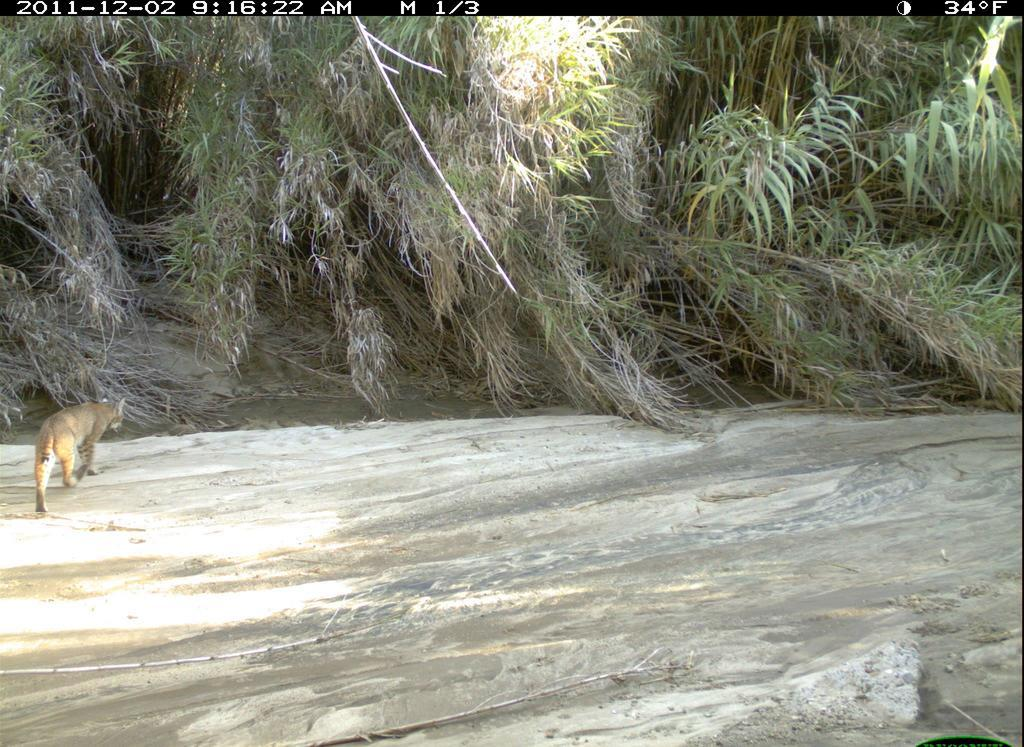bobcat: (16, 387, 139, 525)
